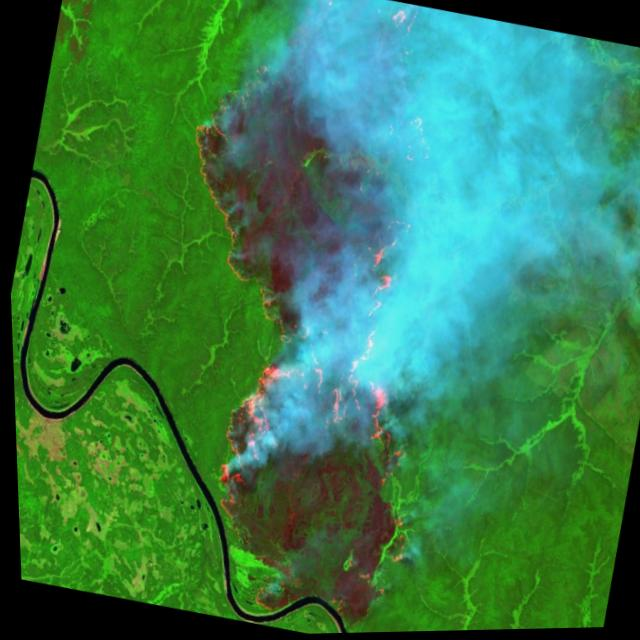fire: (77, 0, 518, 639)
